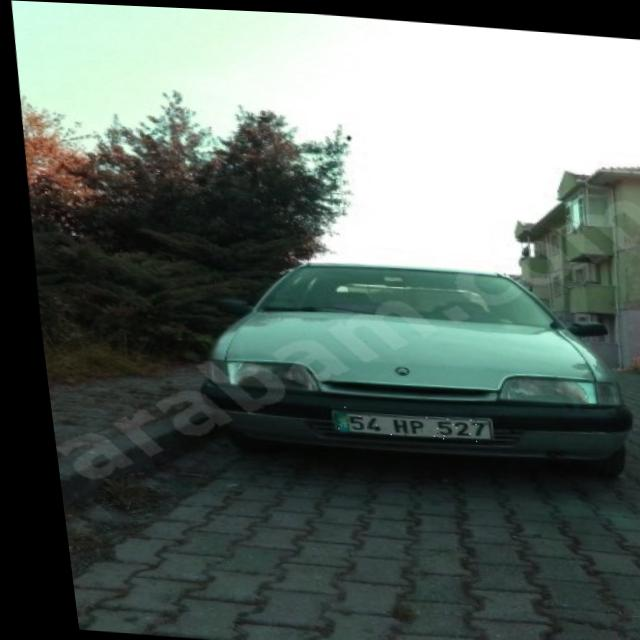license_plate: (318, 402, 485, 439)
